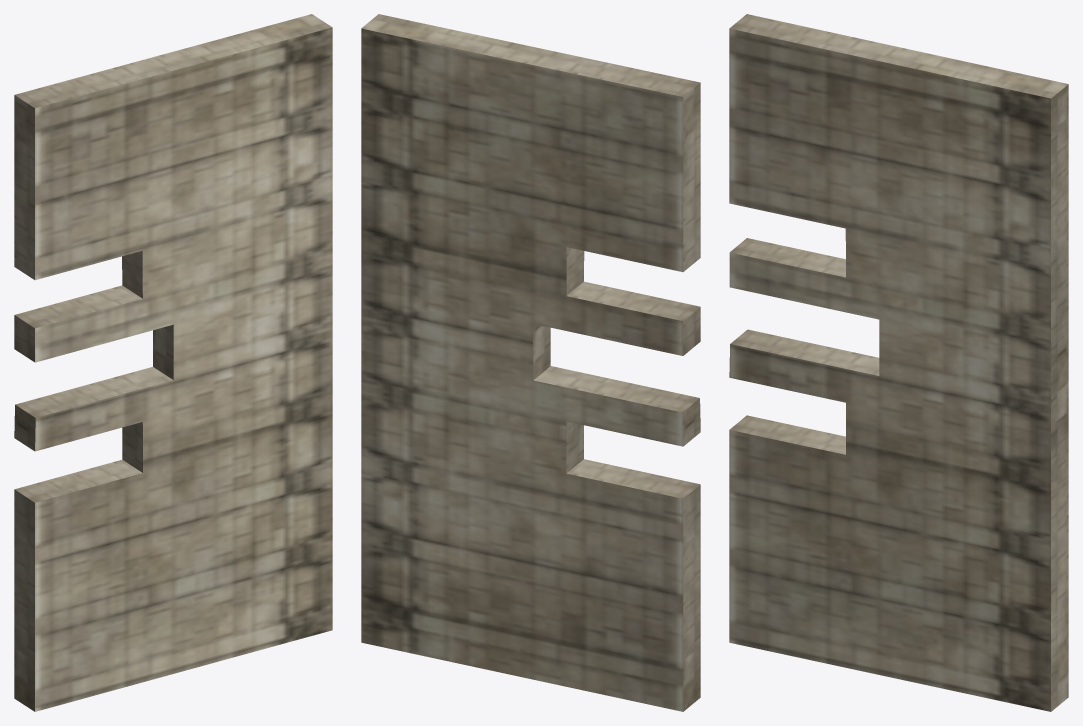
Rendered from walls_and_columns_6.fbx.
3 views of the same model, side by side, from view 1: azimuth 30°, elevation 25°; view 2: azimuth 150°, elevation 25°; view 3: azimuth 330°, elevation 25° (orthographic).
Parts seen in each view (by area): view 1: walls_and_columns_6; view 2: walls_and_columns_6; view 3: walls_and_columns_6.
Part boxes in pixels (bbox=[...]): walls_and_columns_6: bbox=[14, 14, 332, 711]; walls_and_columns_6: bbox=[361, 14, 700, 711]; walls_and_columns_6: bbox=[729, 14, 1068, 711].
Size of the model in its own units: 376 by 703 by 59.56.
